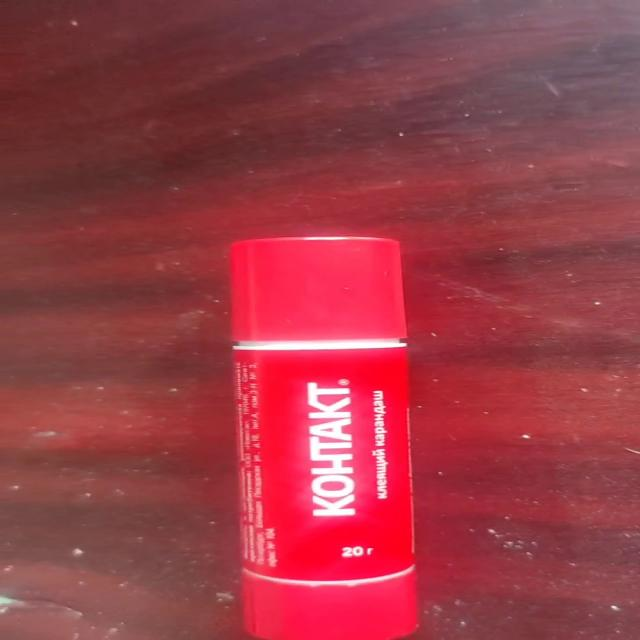glue: (228, 235, 420, 639)
